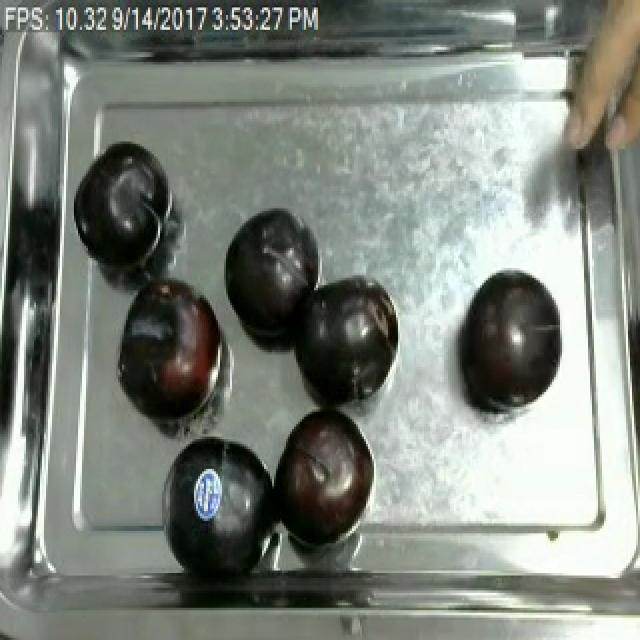Fruit: (150, 426, 282, 586), (112, 280, 230, 429), (452, 268, 568, 414), (266, 399, 378, 548), (282, 270, 398, 412), (220, 201, 320, 345), (72, 141, 174, 273)
